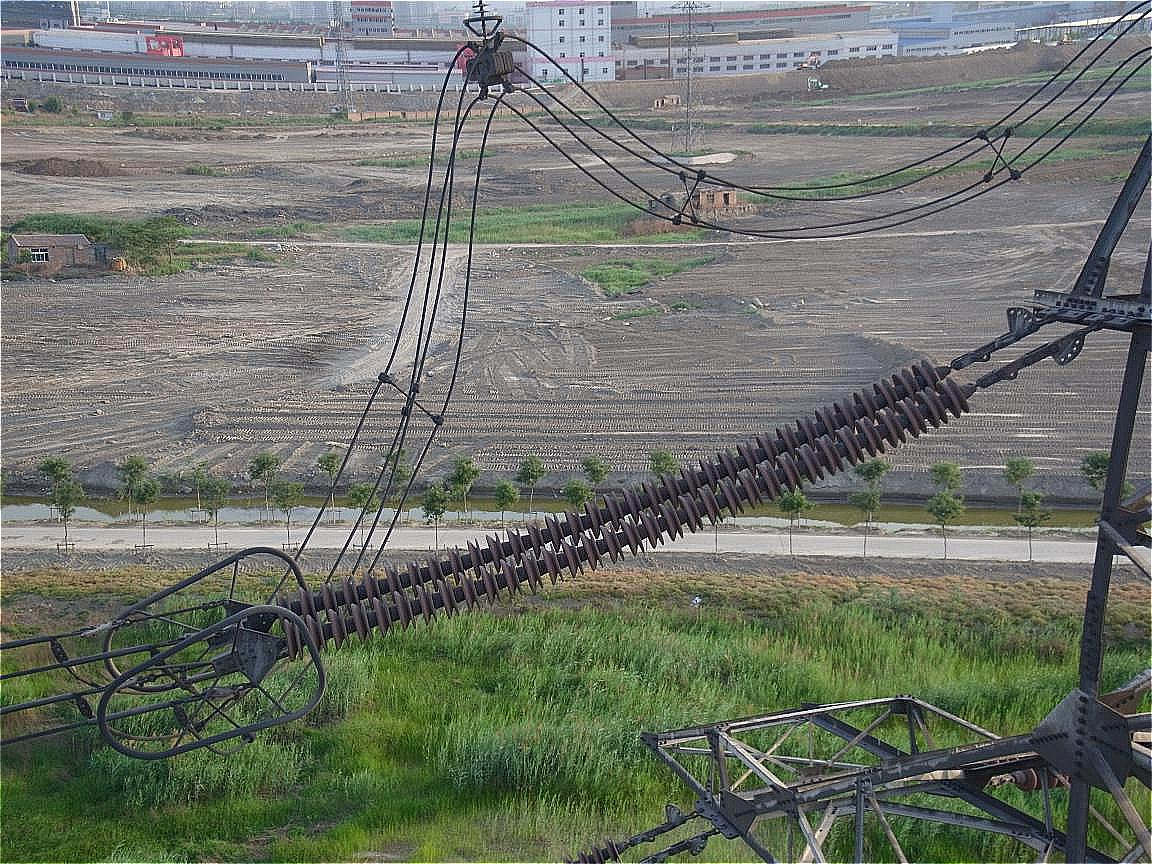insultor1: (253, 345, 977, 673)
